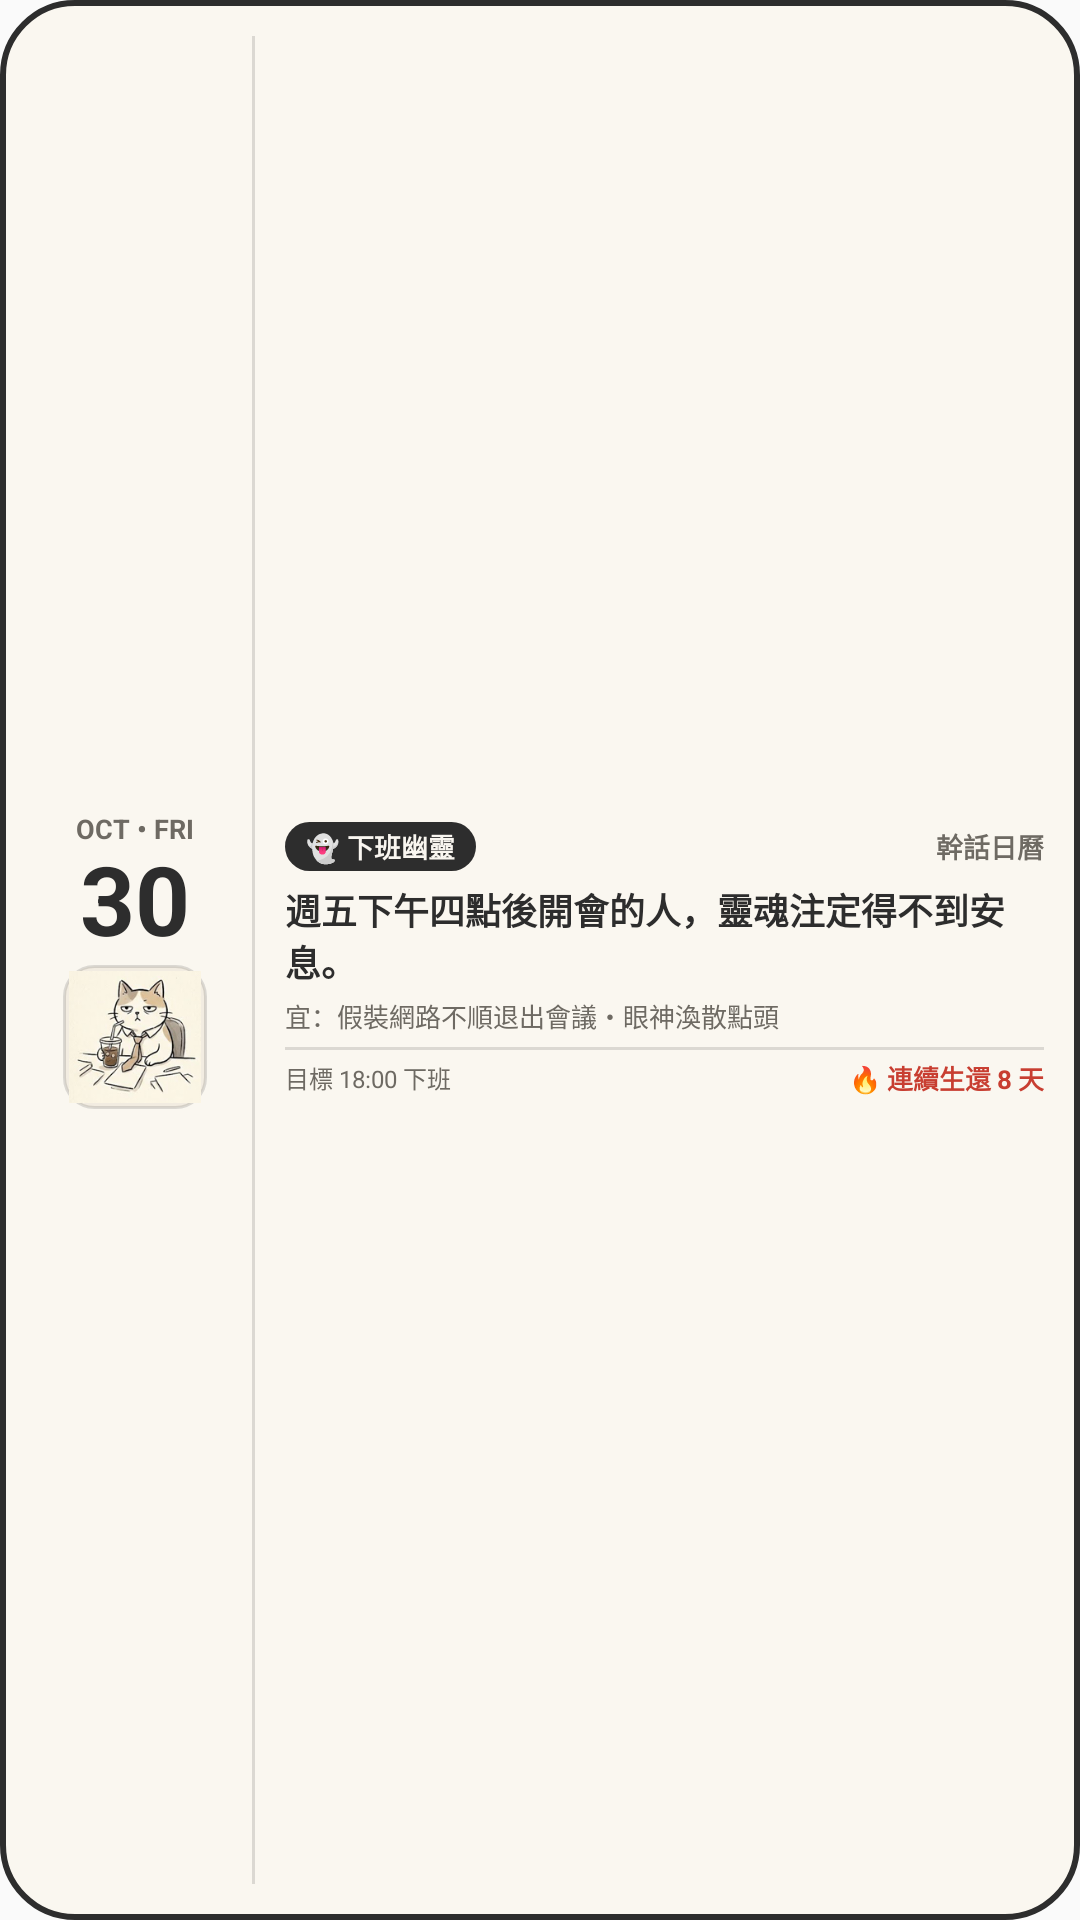

Named icons in this screenshot (1080px×1920px) and their centers, [x,y]:
widget char cat: [135,1037]
